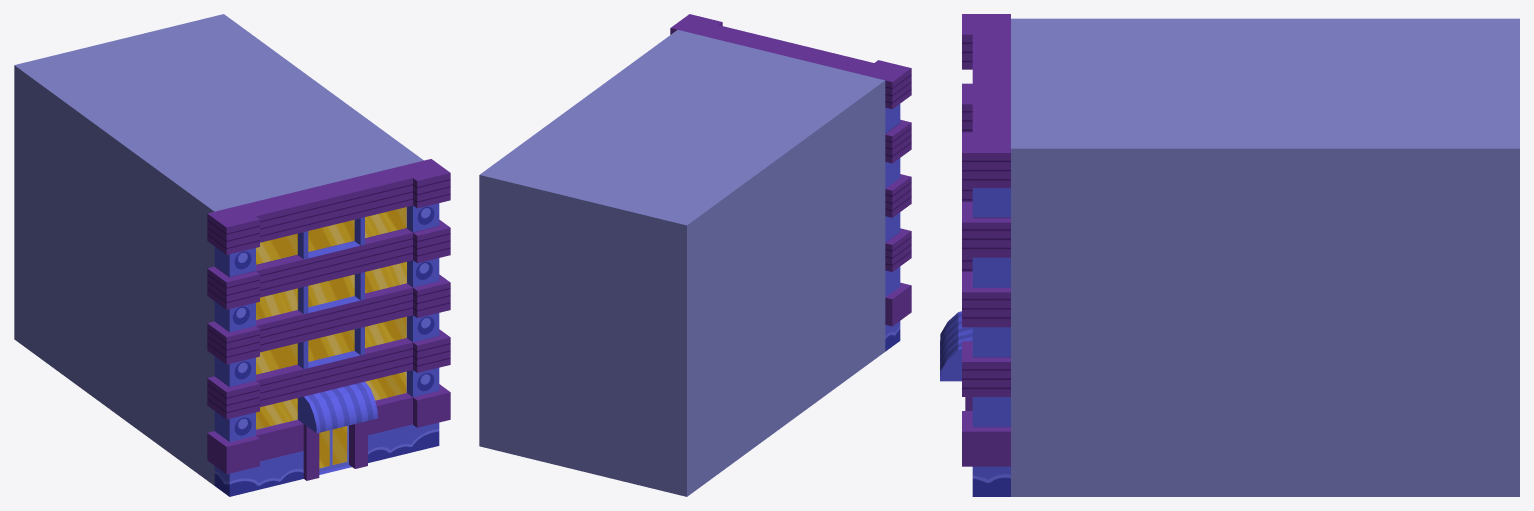
Rendered from Lloyd Bldg1.fbx.
3 views of the same model, side by side, from view 1: azimuth 30°, elevation 25°; view 2: azimuth 150°, elevation 25°; view 3: azimuth 270°, elevation 25° (orthographic). The views are drawn at different scales.
Visible parts, largest first — view 1: Bldg_Combo_3:Inside_Building, Bldg_Combo_3:Front; view 2: Bldg_Combo_3:Inside_Building, Bldg_Combo_3:Front; view 3: Bldg_Combo_3:Inside_Building, Bldg_Combo_3:Front.
Part boxes in pixels (x1=…): Bldg_Combo_3:Inside_Building: x1=14, y1=14, x2=423, y2=485; Bldg_Combo_3:Front: x1=207, y1=159, x2=450, y2=496; Bldg_Combo_3:Inside_Building: x1=479, y1=30, x2=885, y2=496; Bldg_Combo_3:Front: x1=670, y1=14, x2=911, y2=351; Bldg_Combo_3:Inside_Building: x1=1011, y1=18, x2=1519, y2=496; Bldg_Combo_3:Front: x1=940, y1=14, x2=1010, y2=496.
Size of the model in its own units: 8.56 by 10 by 15.08.
2 materials, 1 textured.
